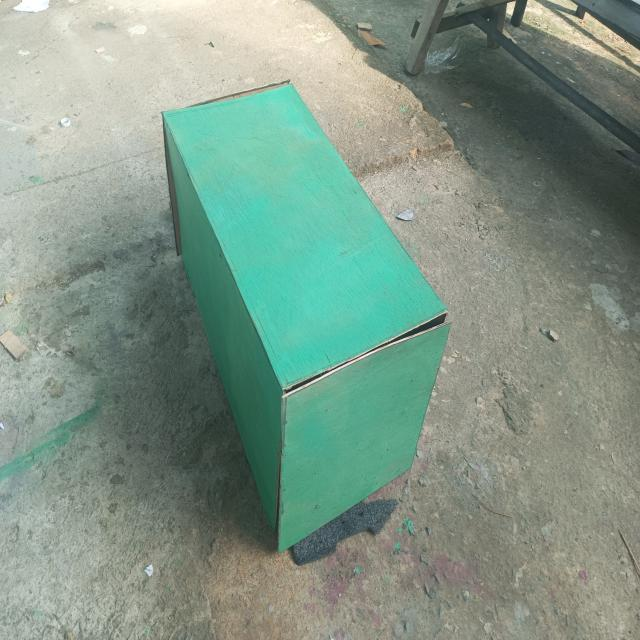green_box: (154, 54, 464, 602)
